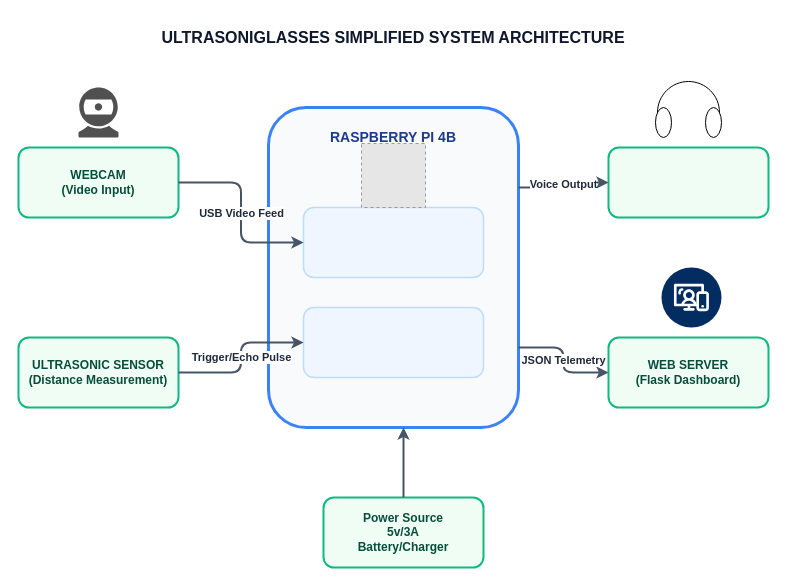
Some shapes in this 786 by 585 pixel diagram are drawn without their labels. Grey dashed boxes stand in for pictures. The centre of each missing label's shape, as x and y in pixels:
"AUDIO FEEDBACK (Voice Alerts)" belongs at (x=688, y=182).
"GPIO Pins (Sensor Interface)" belongs at (x=393, y=342).
"YOLOv8n AI Model (Object Detection)" belongs at (x=393, y=242).
